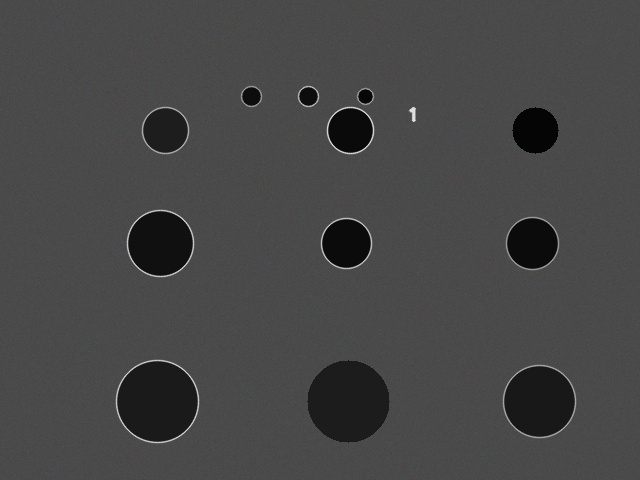hole: (116, 360, 198, 442), (307, 360, 389, 442), (503, 365, 575, 437), (127, 210, 193, 276), (506, 217, 558, 269), (321, 218, 371, 268), (142, 107, 188, 153), (327, 107, 373, 153), (512, 107, 558, 153), (241, 86, 261, 106), (298, 86, 318, 106), (357, 88, 373, 104)
